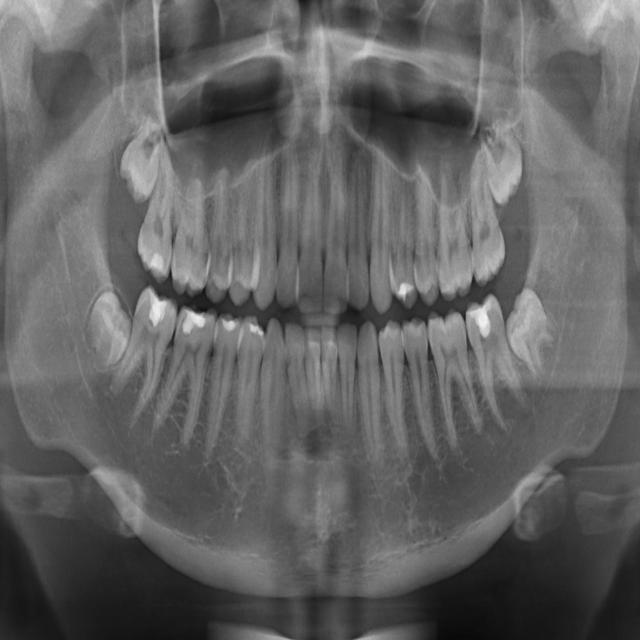3M ESPE Implant: (110, 101, 172, 206)
AGS Medikal Implant: (347, 146, 369, 312)
AMerOss Implant: (363, 131, 394, 315)
Amalgam filling: (383, 162, 418, 312)
Anthogyr Implant: (407, 173, 440, 308)
Bicon Implant: (432, 164, 475, 303)
BioHorizons Implant: (465, 151, 509, 287)
BioLife Implant: (472, 109, 533, 208)
Biomet 3i Implant: (486, 282, 584, 392)
Blue Sky Bio Implant: (452, 291, 542, 440)
Camlog Implant: (423, 304, 489, 457)
Caries: (132, 141, 182, 286)
Composite filling: (399, 315, 452, 463)
Cowellmedi Implant: (376, 317, 418, 466)
Crown: (354, 319, 386, 468)
DENTSPLY Implant: (337, 322, 356, 436)
Dentatus Implant: (320, 325, 340, 428)
Dentis Implant: (303, 324, 324, 422)
Dentium Implant: (281, 321, 313, 438)
Euroteknika Implant: (260, 315, 286, 473)
Filling: (225, 312, 268, 451)
Frontier Implant: (194, 310, 242, 470)
Hiossen Implant: (168, 158, 215, 300)
Implant: (100, 281, 188, 426)
Implant Direct: (145, 298, 227, 449)
Keystone Dental Implant: (74, 287, 141, 376)
MIS Implant: (204, 164, 235, 305)
Mandible: (228, 148, 255, 306)
Maxilla: (251, 127, 278, 311)
Megagen Implant: (275, 137, 303, 311)
Neodent Implant: (296, 149, 323, 315)
Neoss Implant: (322, 144, 348, 316)
